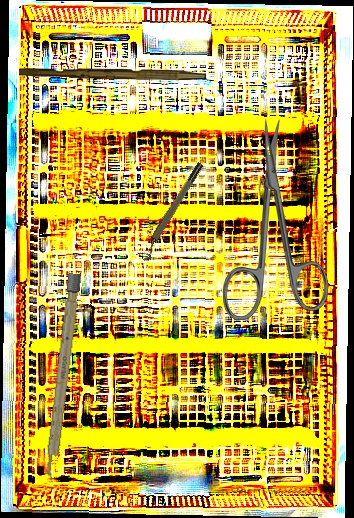Fixation Ring: (135, 160, 210, 264)
Iris Scissors: (223, 119, 328, 320)
Scalpel Handle: (43, 272, 82, 481), (19, 67, 206, 80)
